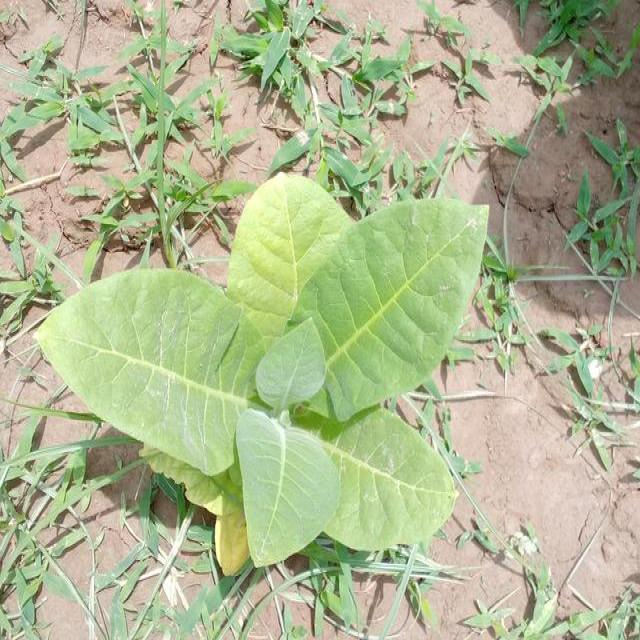crop: (39, 170, 488, 588)
